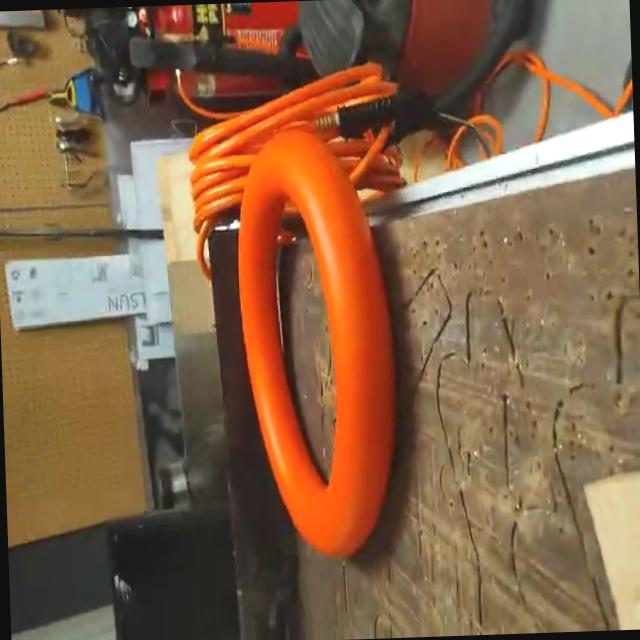note: (234, 121, 436, 566)
